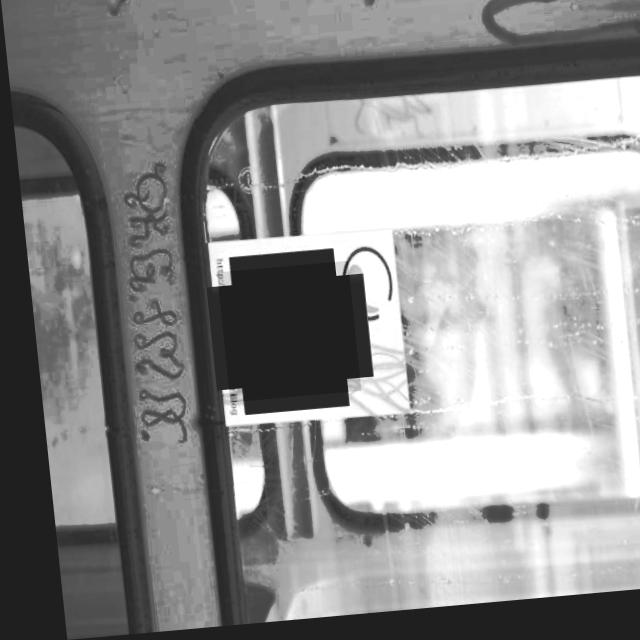qr_code: (210, 267, 351, 406)
